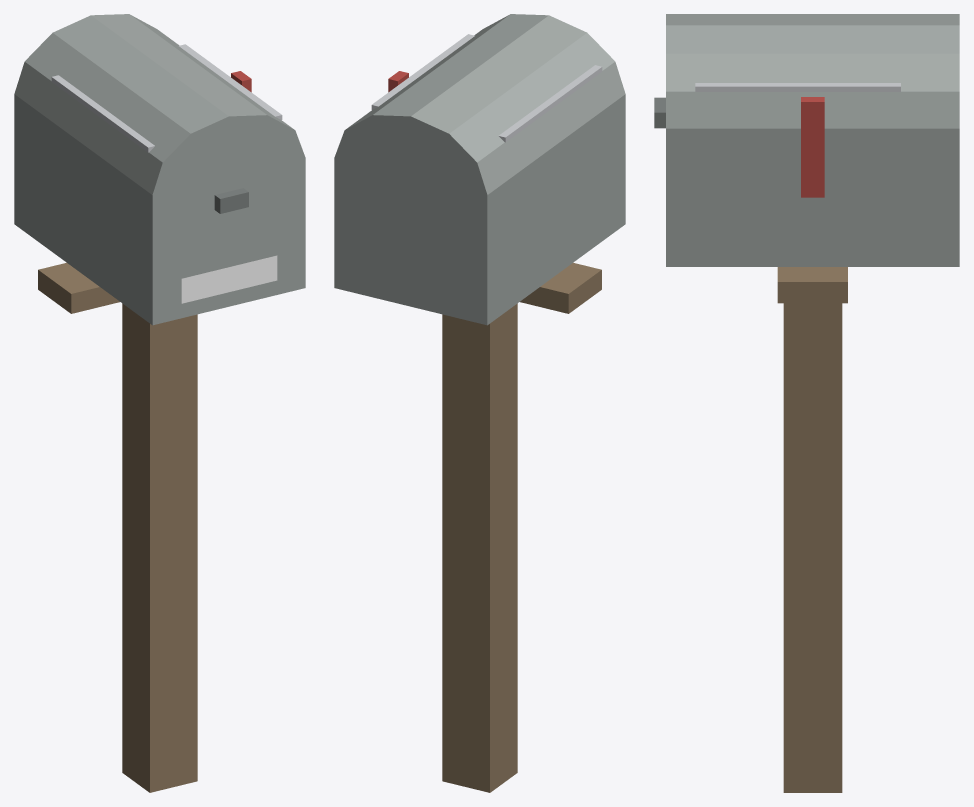
The model's file is postilaatikko.glb.
The picture shows the model from 3 angles, left to right: view 1: azimuth 30°, elevation 25°; view 2: azimuth 150°, elevation 25°; view 3: azimuth 270°, elevation 25°; orthographic projection. The views are drawn at different scales.
Parts seen in each view (by area): view 1: postilaatikko; view 2: postilaatikko; view 3: postilaatikko.
Boxes of the visible parts, x1,y1,x2,y2 form: postilaatikko: (14,14,305,792); postilaatikko: (334,14,625,792); postilaatikko: (654,14,959,792).
Size of the model in its own units: 0.44 by 1.42 by 0.52.
